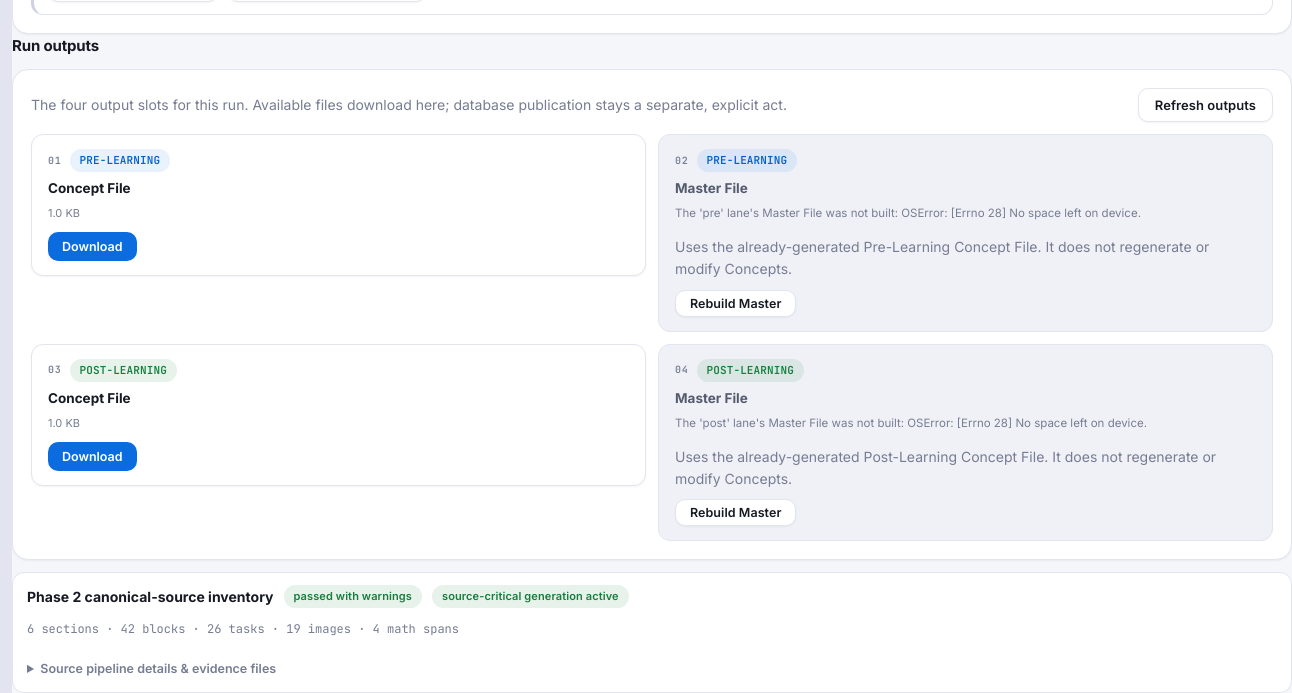
Test: rebuilds only the disabled post Master and refreshes its Download
(page scrolled)
Click the button with aria-label "Rebuild Post-Learning Master File": (736, 513) top-left (675, 499), bottom-right (796, 526)
(page scrolled)
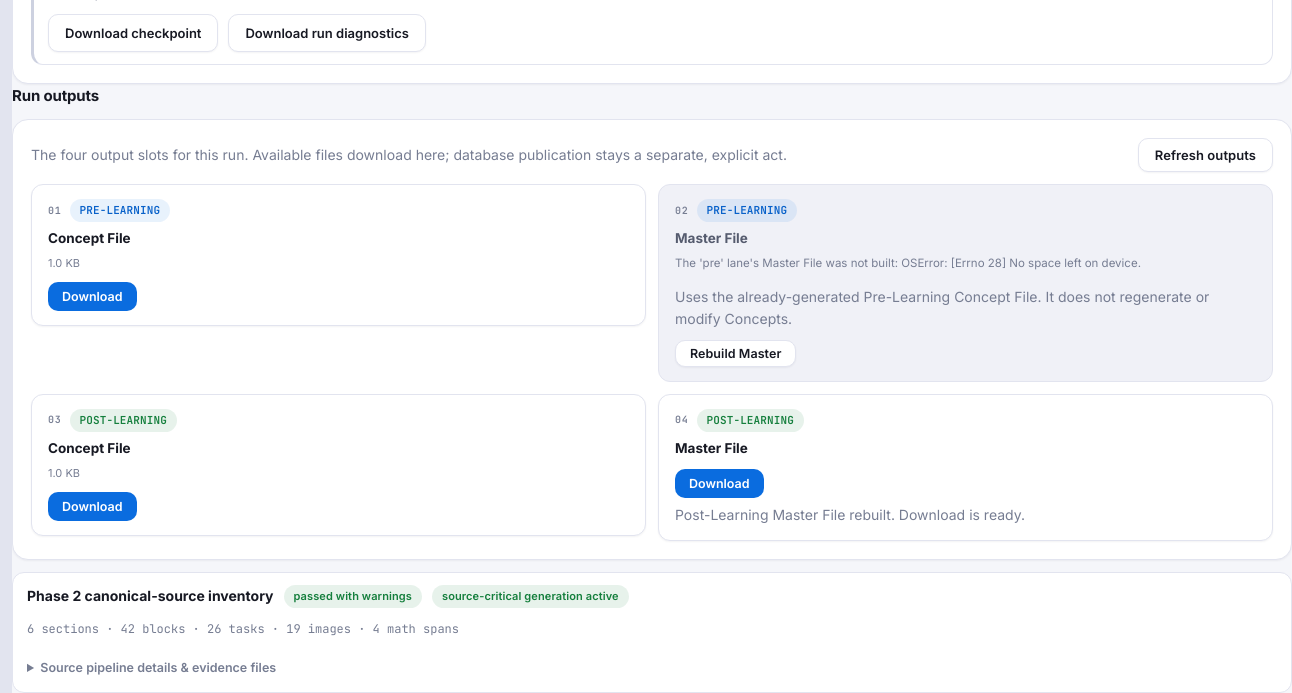
Expected: the link with aria-label "Download the Post-Learning Master File" is shown, top-left (675, 469), bottom-right (764, 498)
Expected: the text "Post-Learning Master File rebuilt. Download is ready." is shown, top-left (675, 506), bottom-right (1025, 523)
